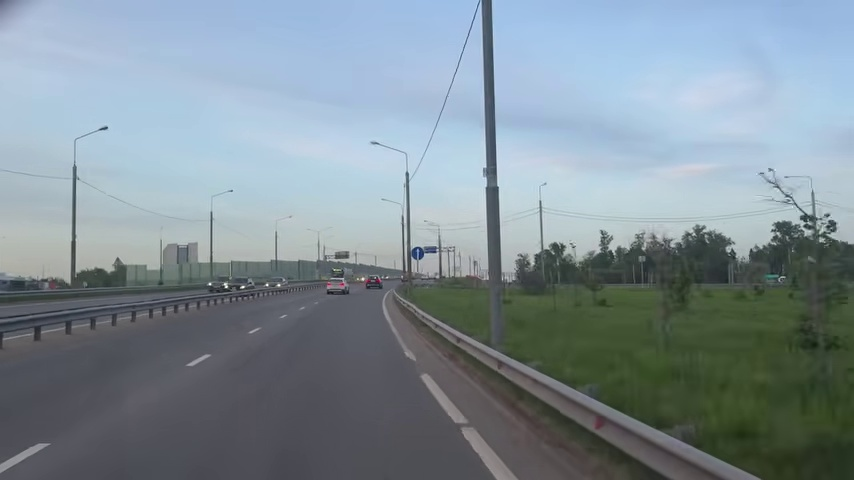apagada: (91, 122, 111, 138), (367, 135, 386, 151), (222, 185, 236, 198)
